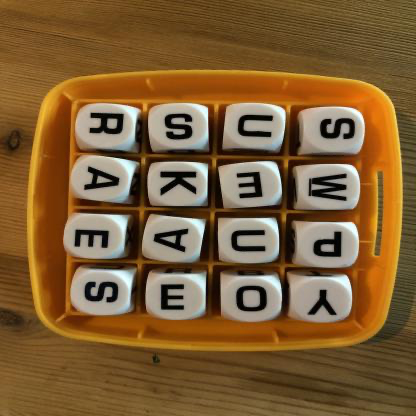a: (71, 159, 131, 201), (146, 217, 200, 262)
e: (222, 163, 280, 208), (147, 276, 207, 318), (68, 216, 124, 259)
k: (148, 164, 208, 204)
o: (221, 278, 280, 321)
p: (298, 223, 358, 268)
r: (78, 106, 136, 150)
s: (303, 108, 365, 152), (149, 106, 210, 148), (74, 273, 131, 314)
u: (219, 221, 279, 264), (226, 108, 284, 150)
w: (298, 165, 359, 210)
y: (293, 278, 353, 322)
